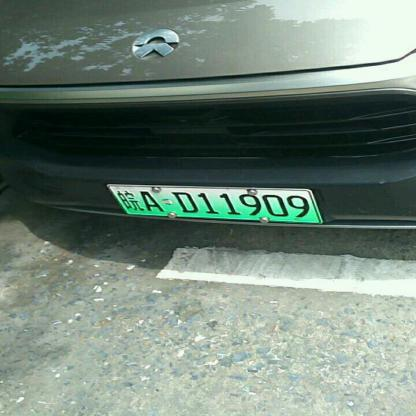lp: (108, 185, 322, 221)
